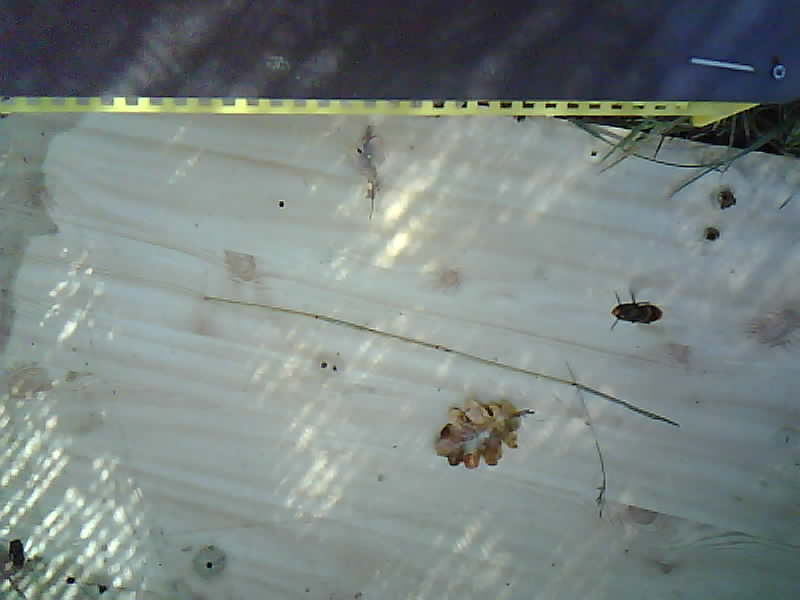hornet: (607, 295, 667, 332)
